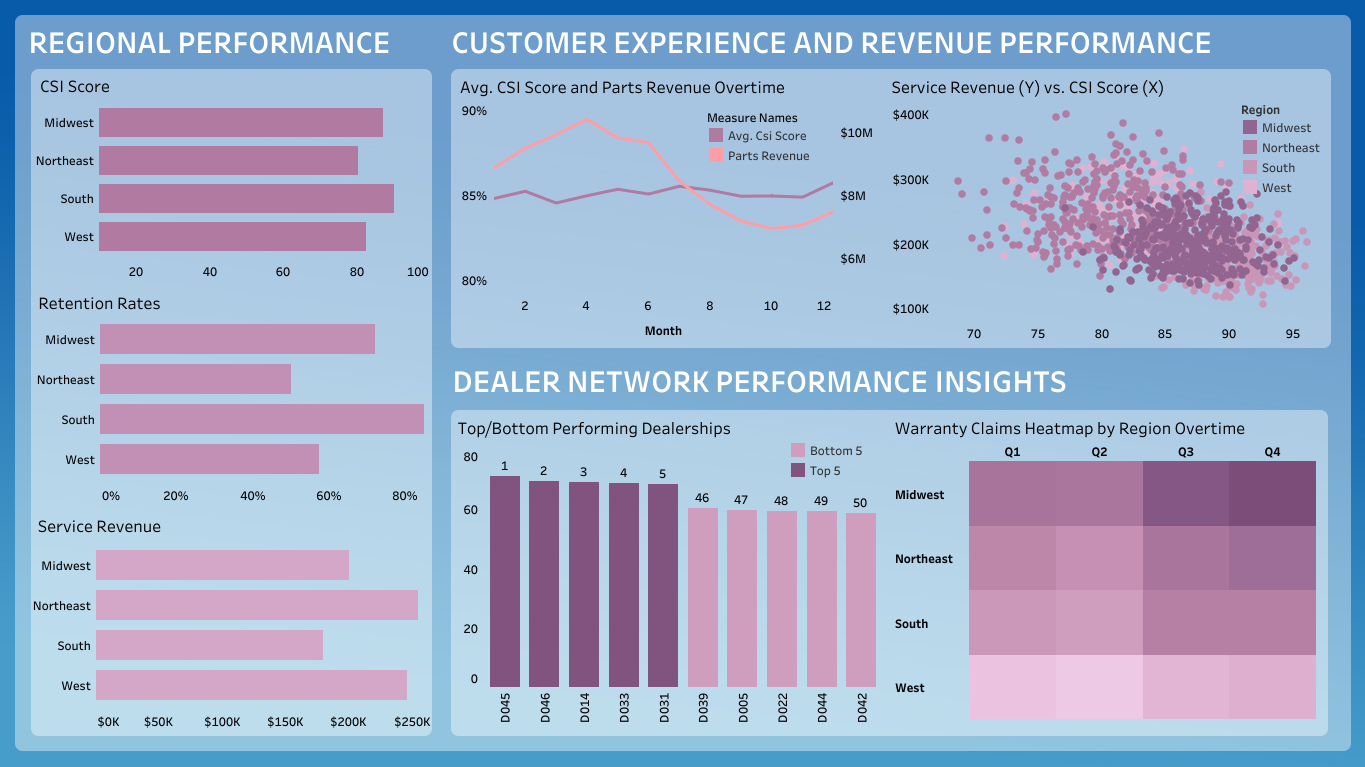

The dashboard page shown, as its layout file describes it:
{"tool":"tableau","page":{"name":"Dashboard 1","canvas":[1366,768],"ordinal":0},"visuals":[{"type":"image","param":"Image/gradient-soft-solid-color-4k-4e.jpg","box":[0,0,1366,768]},{"type":"worksheet","title":"Box","mark":"Automatic","box":[0,0,1366,768]},{"type":"text","box":[22,19,375,44]},{"type":"text","box":[449,19,509,44]},{"type":"text","box":[25,70,100,30]},{"type":"text","box":[456,71,333,30]},{"type":"text","box":[889,71,276,30]},{"type":"legend","title":"CSI ServRev Scat","param":"[federated.0e6imby1xr9yf51cis1ay1qgs3gj].[none:region:nk]","box":[1240,98,95,105]},{"type":"worksheet","title":"CSI by Region","mark":"Automatic","rows":["region"],"cols":["csi_score"],"box":[15,99,420,190]},{"type":"worksheet","title":"CSI PartRev Over Time","mark":"Automatic","rows":["csi_score","parts_revenue"],"cols":["month"],"box":[454,101,419,245]},{"type":"worksheet","title":"CSI ServRev Scat","mark":"Automatic","rows":["service_revenue"],"cols":["csi_score"],"box":[892,101,436,246]},{"type":"legend","title":"CSI PartRev Over Time","param":"[federated.0e6imby1xr9yf51cis1ay1qgs3gj].[:Measure Names]","box":[706,106,140,58]},{"type":"text","box":[33,287,133,30]},{"type":"worksheet","title":"Retention by Region","mark":"Automatic","rows":["region"],"cols":["retention_rate"],"box":[20,319,420,190]},{"type":"text","box":[450,358,640,44]},{"type":"text","box":[453,412,283,30]},{"type":"text","box":[890,412,360,30]},{"type":"legend","title":"TOPBOT Dealerships","param":"[federated.0e6imby1xr9yf51cis1ay1qgs3gj].[usr:Calculation_1439463031513284614:nk","box":[788,440,82,40]},{"type":"worksheet","title":"Region Warranty Heatmap","mark":"Automatic","rows":["region"],"cols":["month"],"box":[889,441,427,278]},{"type":"worksheet","title":"TOPBOT Dealerships","mark":"Automatic","rows":["Calculation_448671113300914177"],"cols":["dealer_id"],"box":[455,447,426,280]},{"type":"text","box":[28,510,143,30]},{"type":"worksheet","title":"ServRev by Region","mark":"Automatic","rows":["region"],"cols":["service_revenue"],"box":[16,545,418,190]}]}

Visuals, with their boxes in screenshot pixels (x1, y1, x2, y2), scaled from the page's 1366x768 canvas onto the 1365x767 screenshot:
image: left=0, top=0, right=1364, bottom=766
"Box" worksheet: left=0, top=0, right=1364, bottom=766
text: left=22, top=19, right=397, bottom=63
text: left=449, top=19, right=957, bottom=63
text: left=25, top=70, right=125, bottom=100
text: left=456, top=71, right=788, bottom=101
text: left=888, top=71, right=1164, bottom=101
"CSI ServRev Scat" legend: left=1239, top=98, right=1334, bottom=203
"CSI by Region" worksheet: left=15, top=99, right=435, bottom=289
"CSI PartRev Over Time" worksheet: left=454, top=101, right=872, bottom=346
"CSI ServRev Scat" worksheet: left=891, top=101, right=1327, bottom=347
"CSI PartRev Over Time" legend: left=705, top=106, right=845, bottom=164
text: left=33, top=287, right=166, bottom=317
"Retention by Region" worksheet: left=20, top=319, right=440, bottom=508
text: left=450, top=358, right=1089, bottom=401
text: left=453, top=411, right=735, bottom=441
text: left=889, top=411, right=1249, bottom=441
"TOPBOT Dealerships" legend: left=787, top=439, right=869, bottom=479
"Region Warranty Heatmap" worksheet: left=888, top=440, right=1315, bottom=718
"TOPBOT Dealerships" worksheet: left=455, top=446, right=880, bottom=726
text: left=28, top=509, right=171, bottom=539
"ServRev by Region" worksheet: left=16, top=544, right=434, bottom=734
